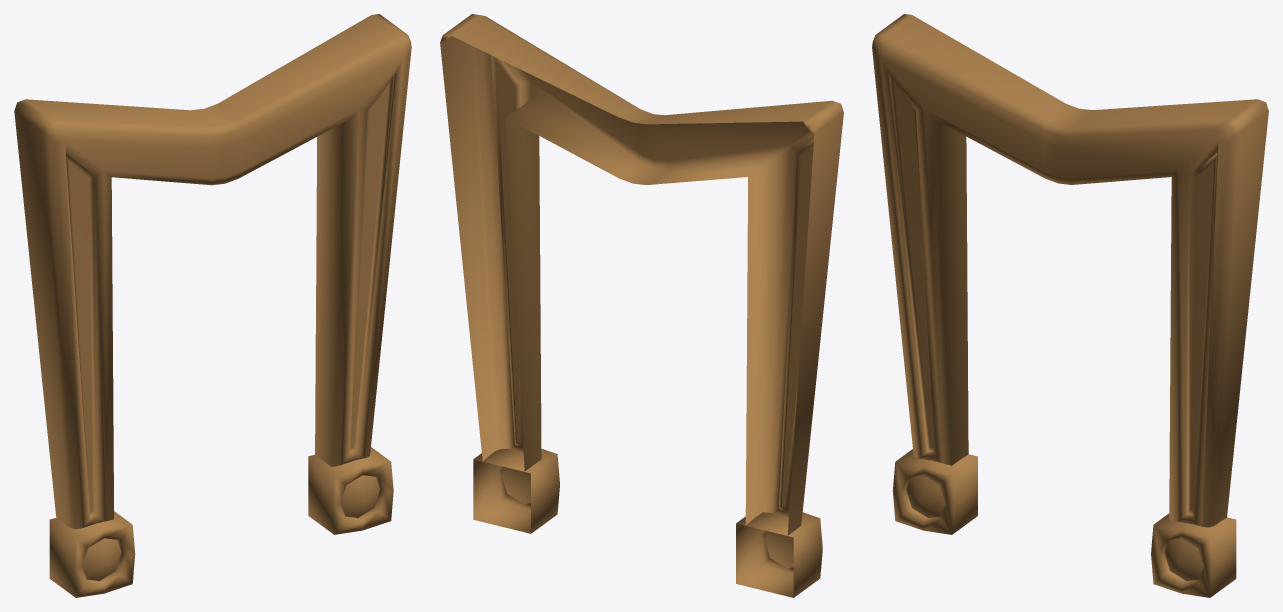
File: props_doorFrame_2.fbx
The picture shows the model from 3 angles, left to right: view 1: azimuth 30°, elevation 25°; view 2: azimuth 150°, elevation 25°; view 3: azimuth 330°, elevation 25°; orthographic projection.
Parts seen in each view (by area): view 1: door_frame2; view 2: door_frame2; view 3: door_frame2.
Boxes of the visible parts, box(x1,y1,x2,y2) form: door_frame2: box(14, 14, 411, 597); door_frame2: box(440, 14, 843, 597); door_frame2: box(872, 14, 1268, 597).
Bounding box in the file's own units: 191 × 239 × 33.47.
